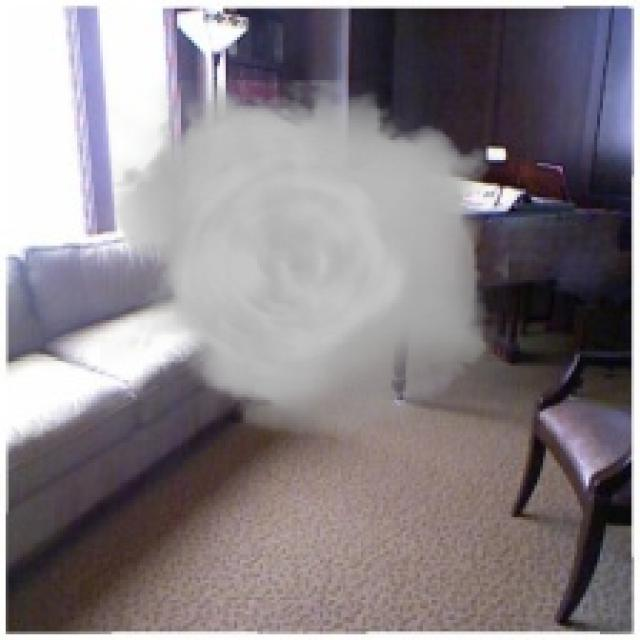smoke: (100, 80, 509, 437)
